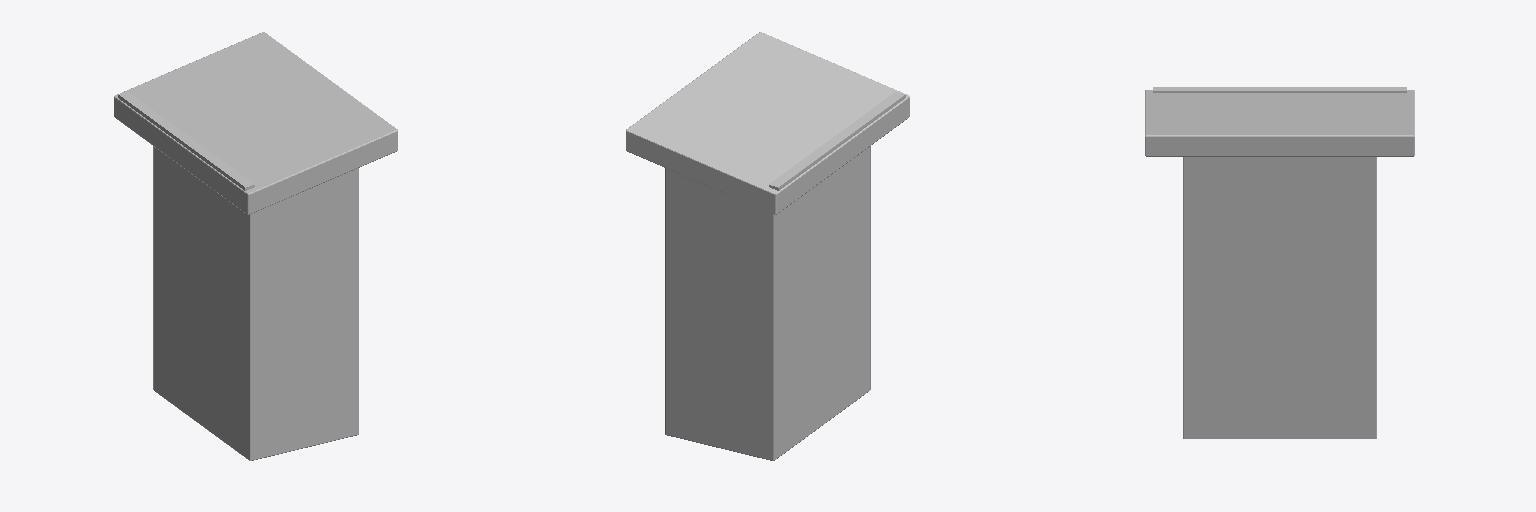
The model's file is ProfessorsDesk.obj.
3 renders of one model, left to right at view 1: azimuth 30°, elevation 25°; view 2: azimuth 150°, elevation 25°; view 3: azimuth 270°, elevation 25°, orthographic.
Visible parts, largest first — view 1: ProfessorDesk; view 2: ProfessorDesk; view 3: ProfessorDesk.
Part boxes in pixels (bbox=[...]): ProfessorDesk: bbox=[114, 32, 397, 460]; ProfessorDesk: bbox=[626, 32, 909, 460]; ProfessorDesk: bbox=[1145, 87, 1414, 438].
Size of the model in its own units: 6.39 by 12.71 by 9.89.